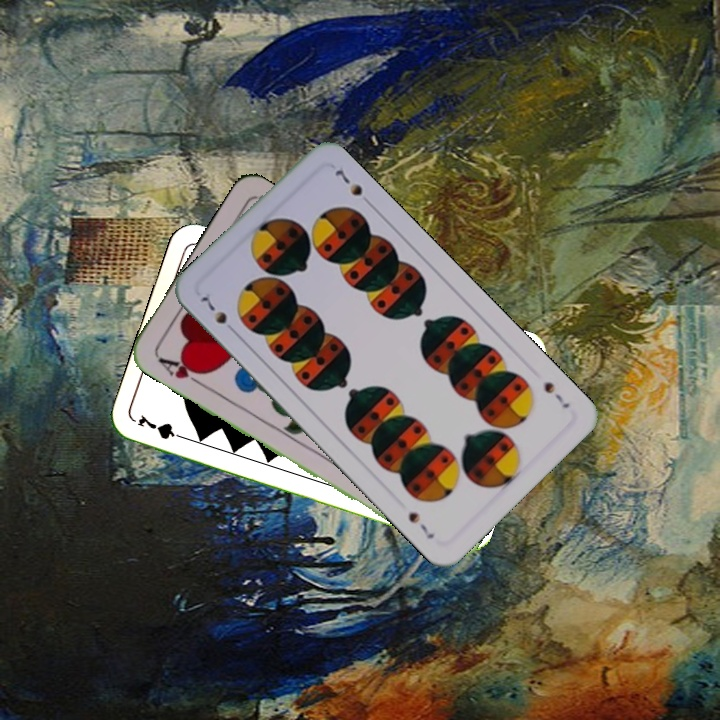G7: (133, 411, 191, 443)
HA: (153, 353, 210, 389)
S7: (197, 292, 240, 337), (539, 377, 573, 411)
